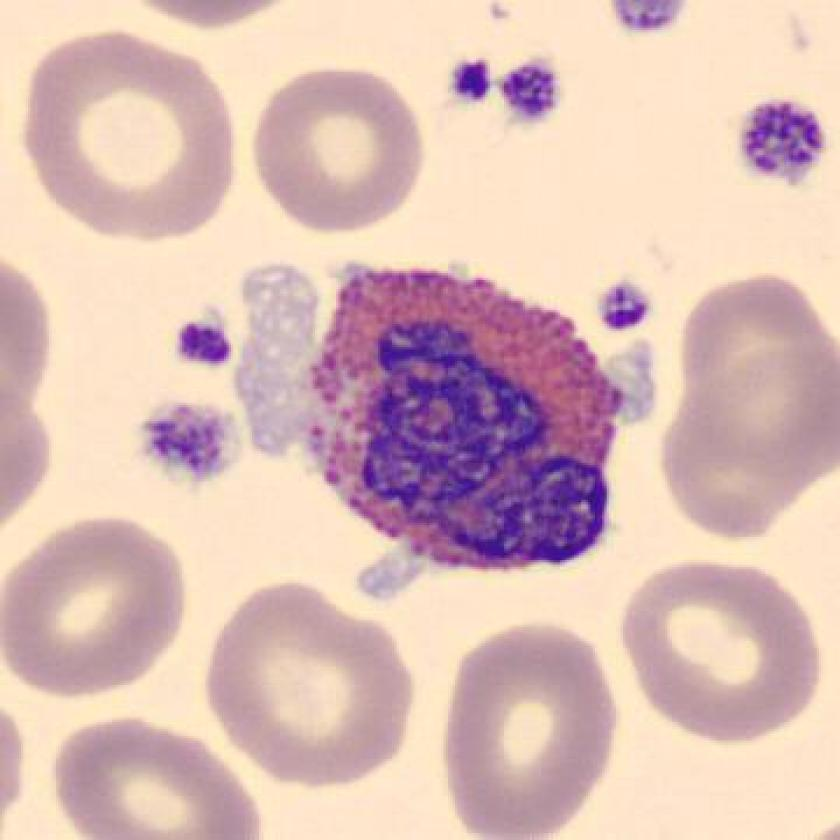eosinophil: (286, 254, 633, 587)
